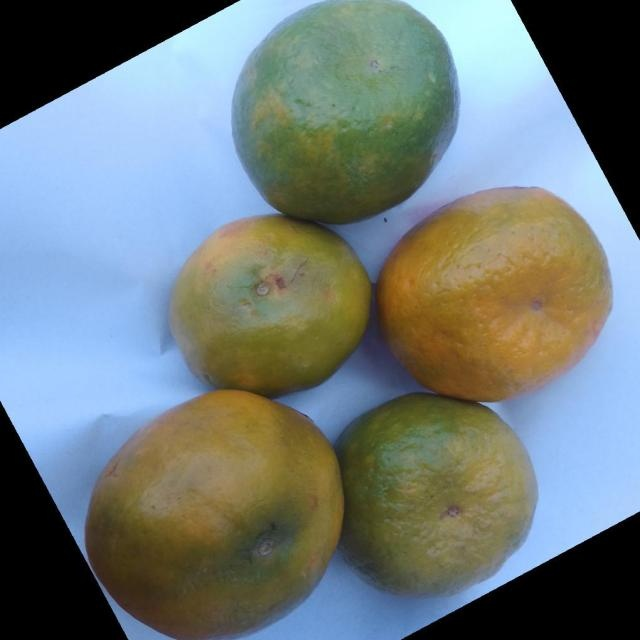agrume: (83, 387, 345, 638), (229, 0, 460, 225), (375, 185, 613, 402), (334, 391, 538, 598), (167, 213, 371, 395)
